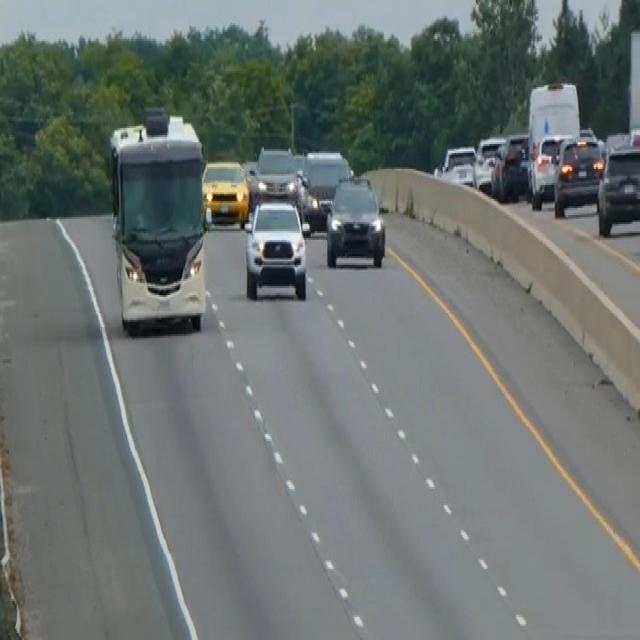bus: (106, 103, 209, 336)
car: (324, 172, 386, 268), (553, 131, 604, 217), (300, 148, 352, 231), (596, 142, 639, 236), (201, 156, 249, 228), (528, 130, 572, 208), (251, 144, 300, 210), (490, 131, 529, 201), (472, 133, 505, 192), (440, 142, 476, 187)
jeep: (243, 196, 308, 300)
